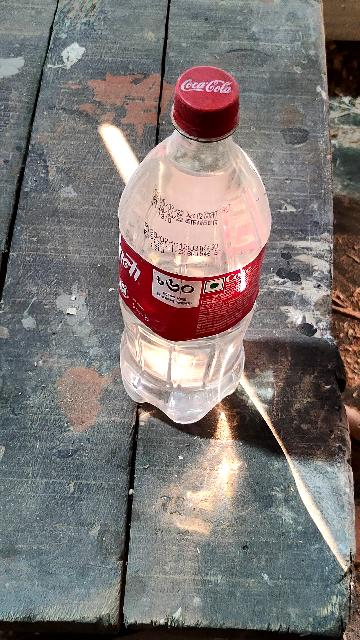bottle: (108, 58, 275, 442)
